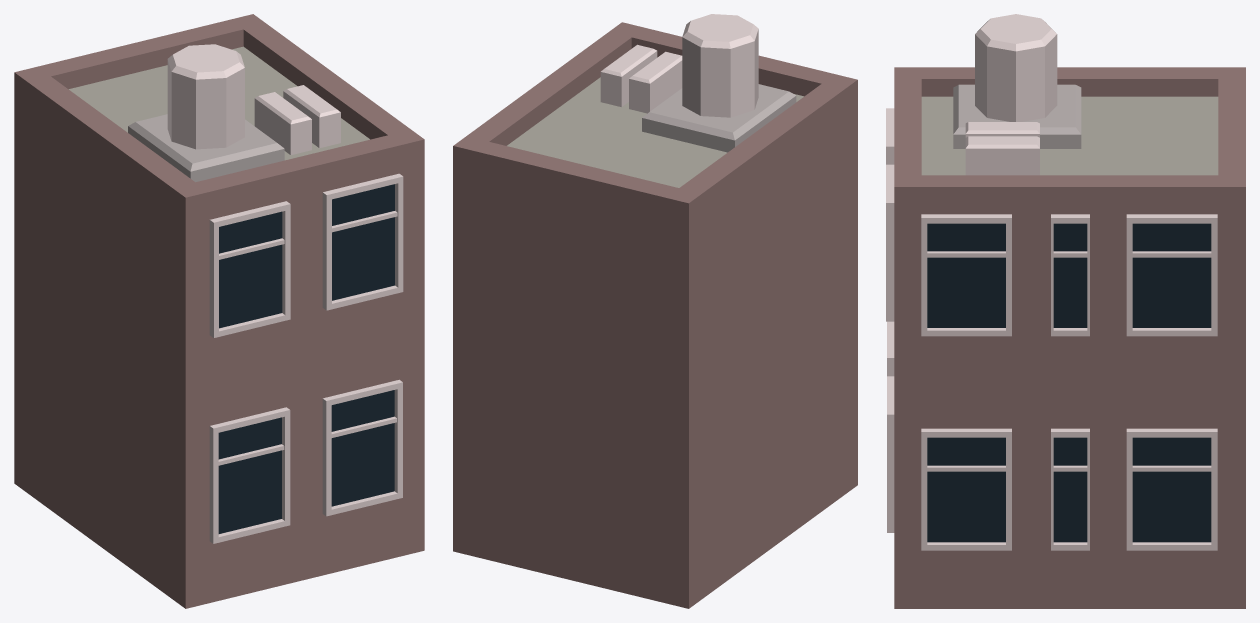
Rendered from building04.fbx.
3 views of the same model, side by side, from view 1: azimuth 30°, elevation 25°; view 2: azimuth 150°, elevation 25°; view 3: azimuth 270°, elevation 25° (orthographic). The views are drawn at different scales.
Visible parts, largest first — view 1: building04; view 2: building04; view 3: building04.
Part boxes in pixels (x1=…): building04: x1=14, y1=14, x2=424, y2=608; building04: x1=453, y1=14, x2=857, y2=608; building04: x1=886, y1=14, x2=1245, y2=608.
Bounding box in the file's own units: 46.87 × 57.83 × 88.73.
